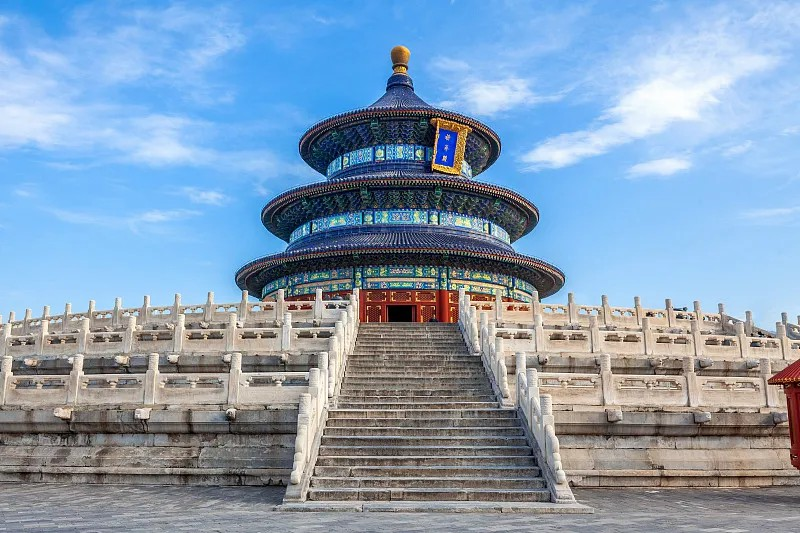Heaven: (233, 45, 568, 323)
